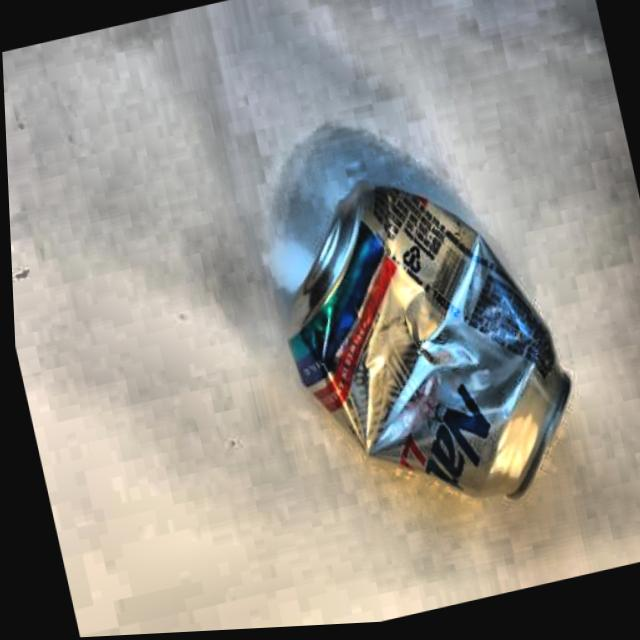Cans: (225, 133, 605, 564)
